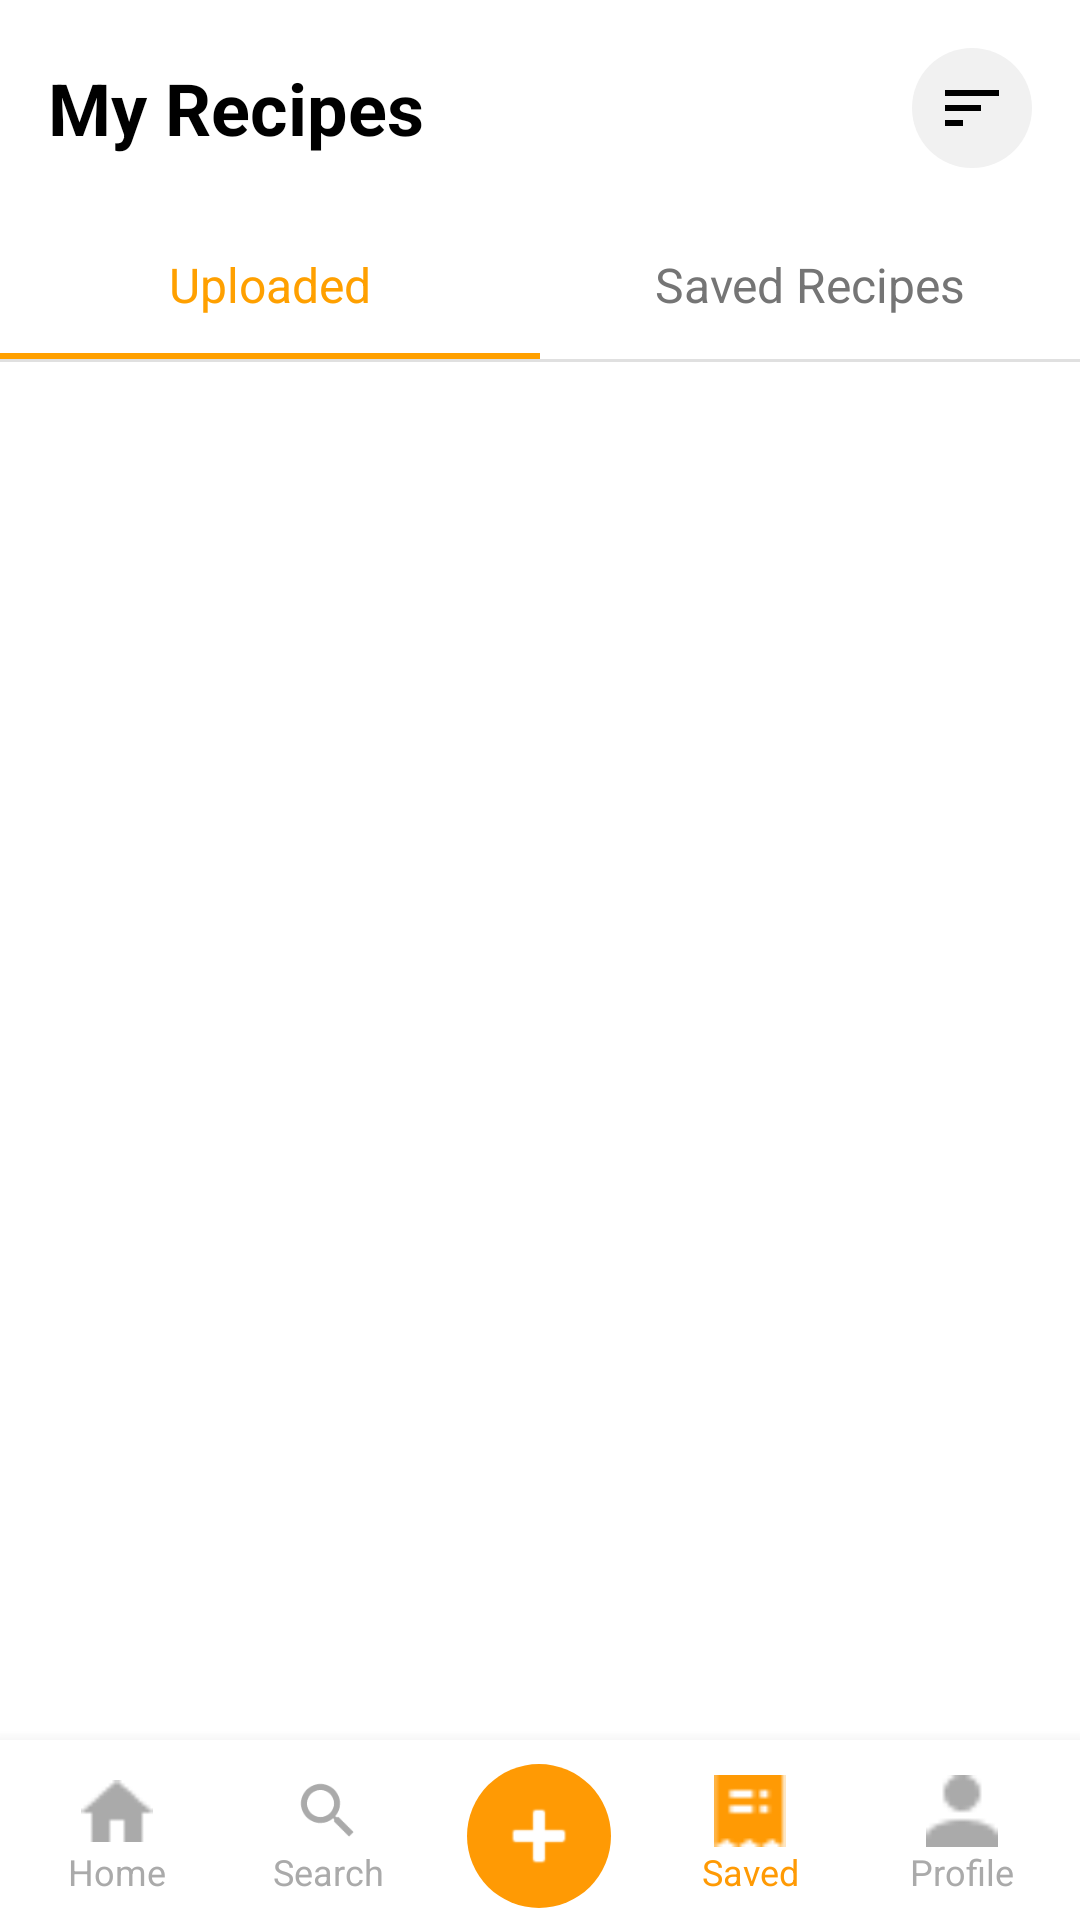

Icon click points for this 1080px x 1920px phone screenshot, format (x=x, y=y):
add: (x=539, y=1836)
Sort: (x=972, y=108)
